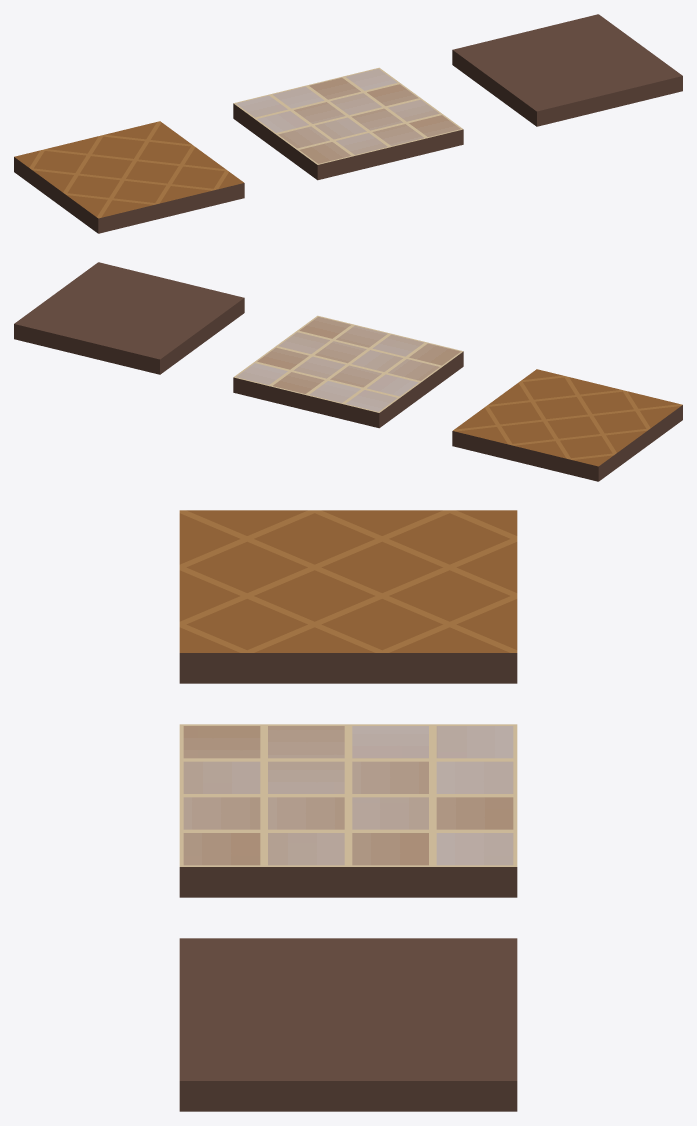
File: Floors.fbx
3 renders of one model, top to bottom at view 1: azimuth 30°, elevation 25°; view 2: azimuth 150°, elevation 25°; view 3: azimuth 270°, elevation 25°, orthographic. The views are drawn at different scales.
Visible parts, largest first — view 1: F02, F01, F03; view 2: F02, F01, F03; view 3: F01, F02, F03.
Part boxes in pixels (x1,y1,x2,y2): F02: (233,67,463,180); F01: (452,14,682,126); F03: (14,121,244,233); F02: (233,315,463,428); F01: (14,262,244,374); F03: (452,369,682,481); F01: (179,938,517,1111); F02: (179,724,517,897); F03: (179,510,517,683).
Size of the model in its own units: 800 by 20 by 200.
